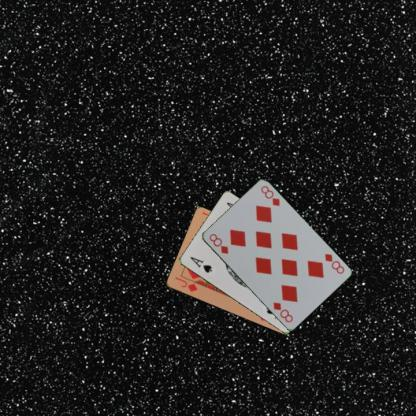8d: (206, 231, 230, 255), (322, 251, 345, 275)
As: (187, 254, 213, 274)
Jd: (172, 274, 198, 293)
